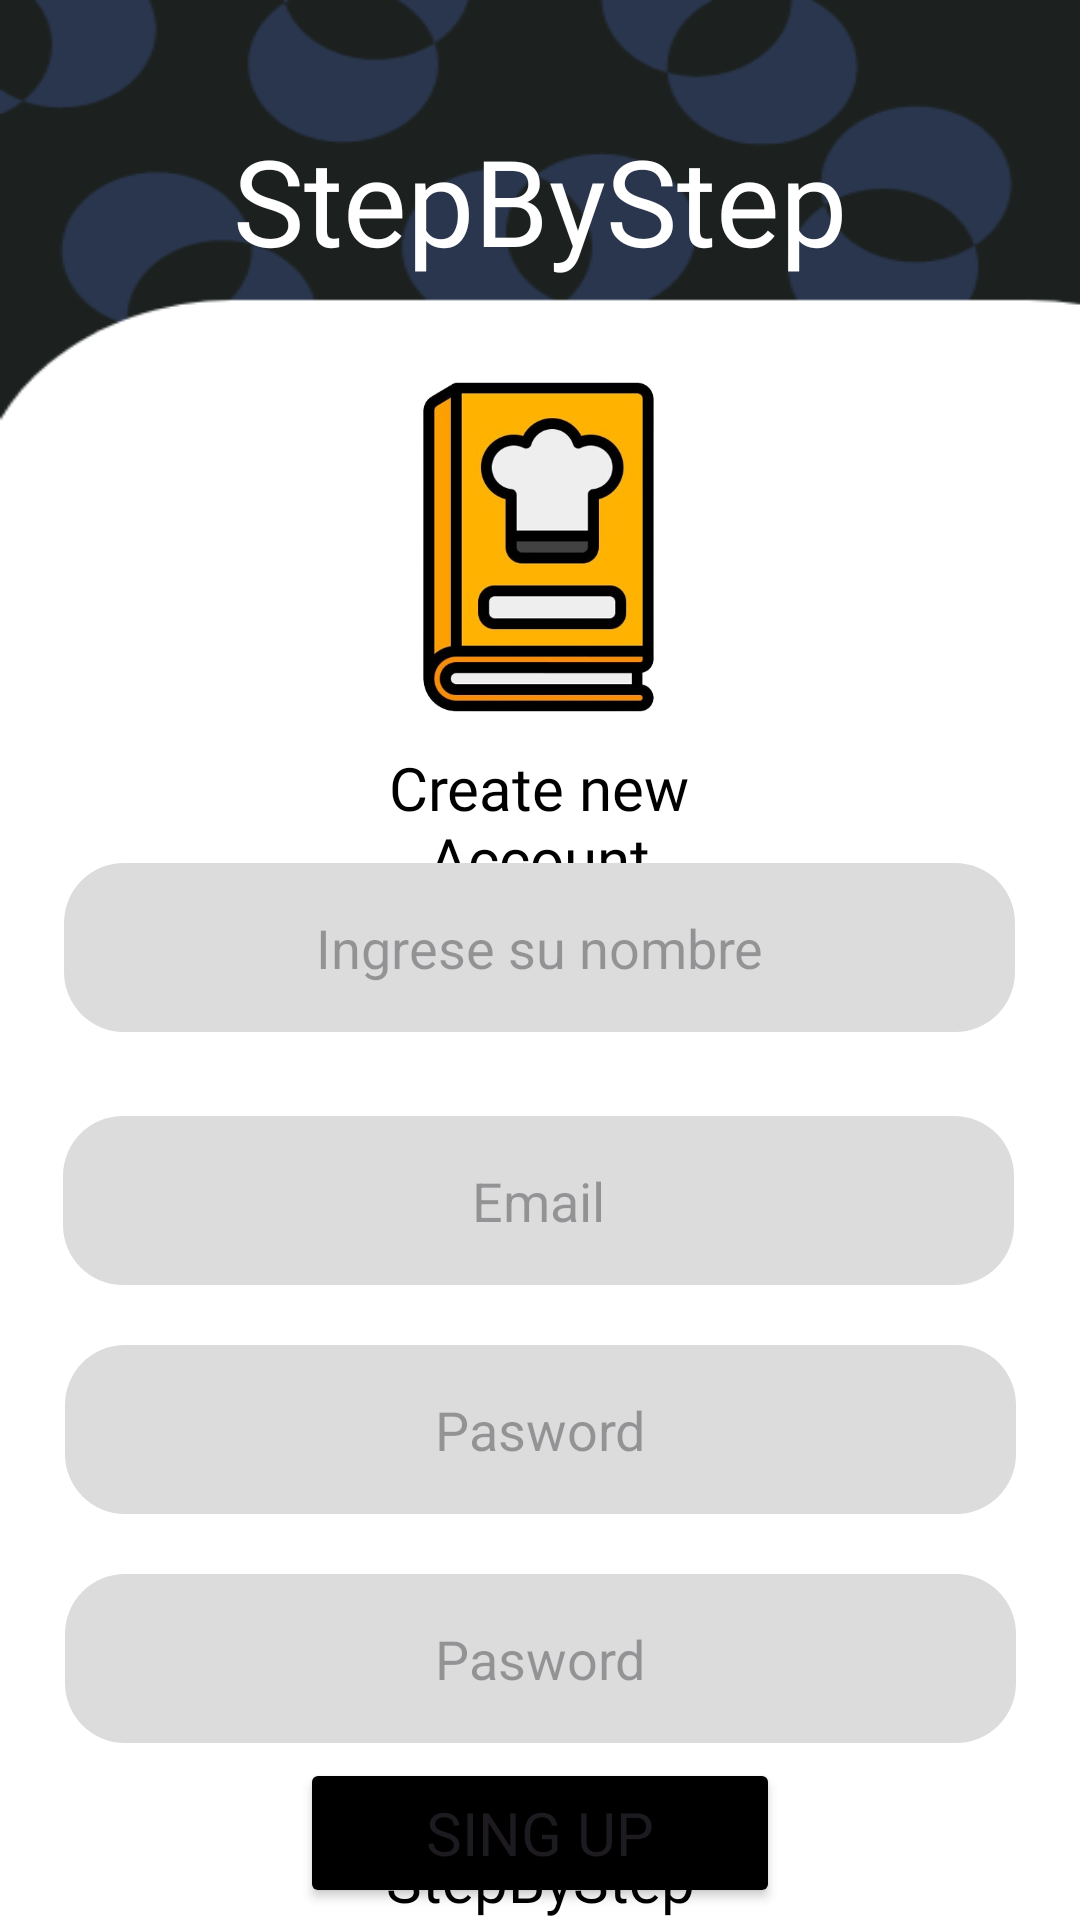

Icons on this 1080*1920 Android screen, each with the point to tap as (x=x, y=y):
libro de recetas: (x=538, y=547)
